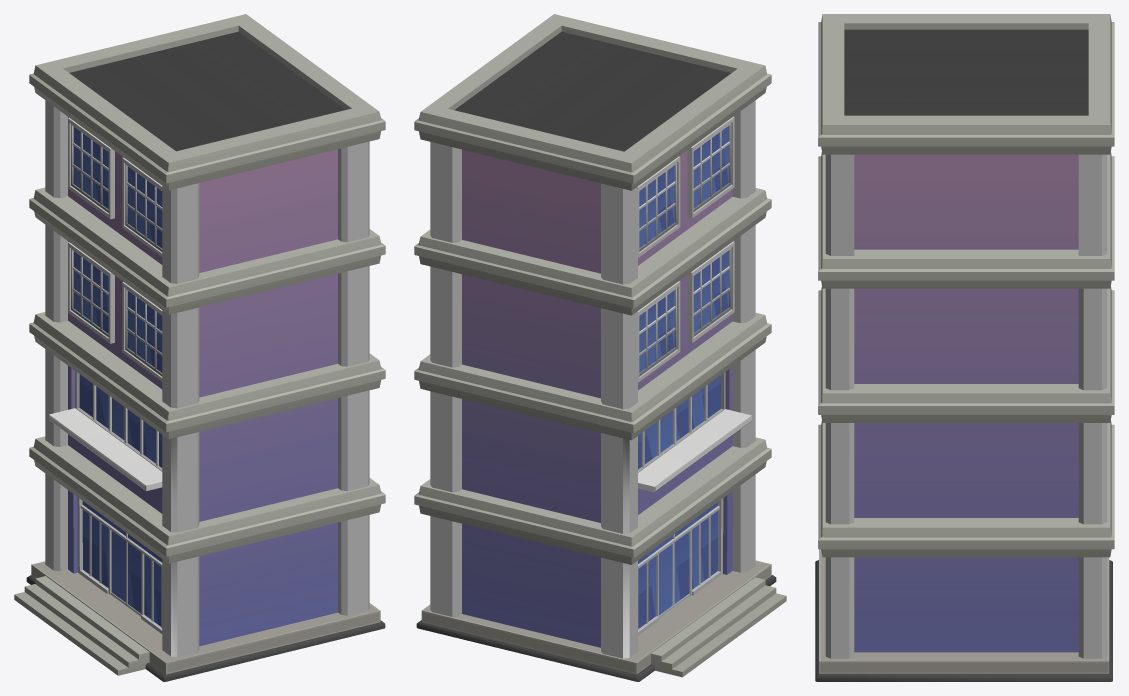
Rendered from Building_9_1_L.fbx.
The picture shows the model from 3 angles, left to right: view 1: azimuth 30°, elevation 25°; view 2: azimuth 150°, elevation 25°; view 3: azimuth 270°, elevation 25°; orthographic projection. The views are drawn at different scales.
Parts seen in each view (by area): view 1: Building_9_1_L; view 2: Building_9_1_L; view 3: Building_9_1_L.
Boxes of the visible parts, bbox=[...] form: Building_9_1_L: bbox=[14, 14, 385, 681]; Building_9_1_L: bbox=[414, 14, 786, 681]; Building_9_1_L: bbox=[815, 14, 1114, 681].
Bounding box in the file's own units: 947 × 1855 × 906.
